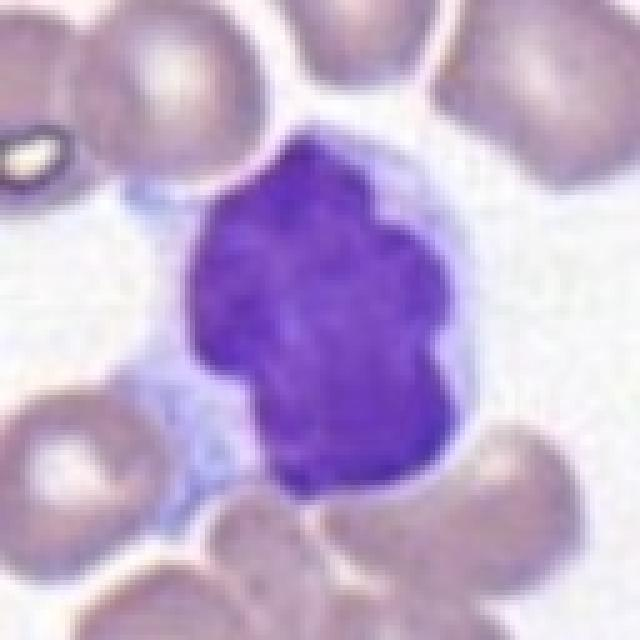lympho: (107, 112, 491, 533)
